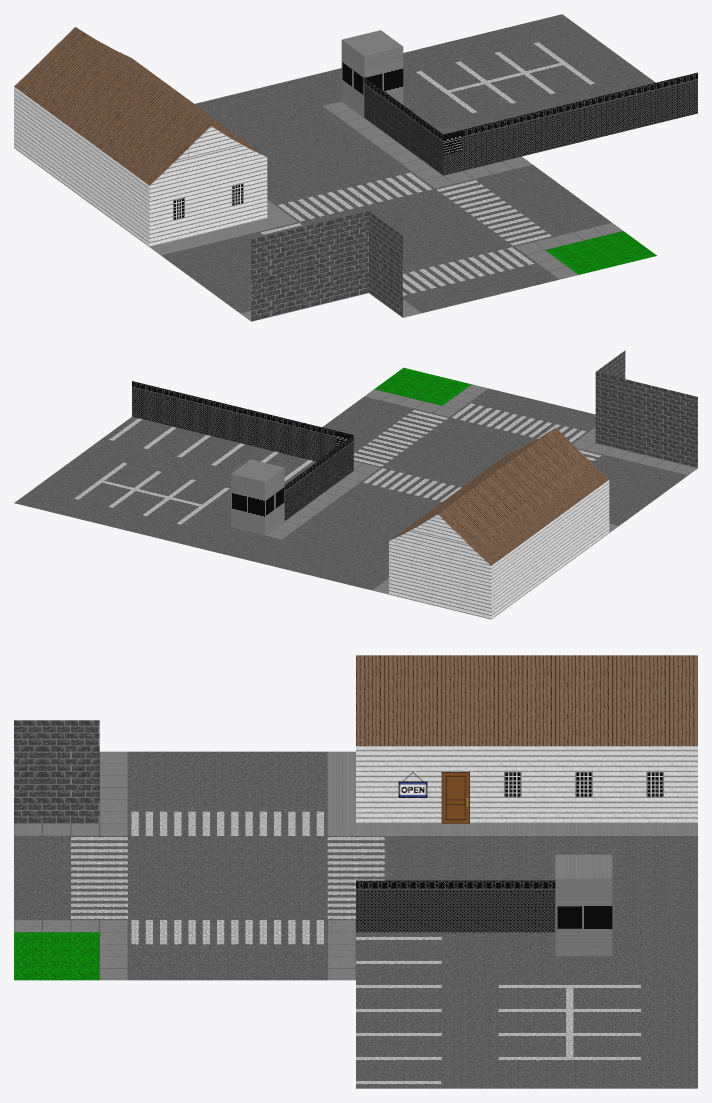
The model's file is Liquor Outlet.glb.
3 views of the same model, one above another, from view 1: azimuth 30°, elevation 25°; view 2: azimuth 150°, elevation 25°; view 3: azimuth 270°, elevation 25° (orthographic). The views are drawn at different scales.
Parts seen in each view (by area): view 1: Cube; view 2: Cube; view 3: Cube.
Boxes of the visible parts, x1,y1,x2,y2 form: Cube: [14, 14, 697, 321]; Cube: [14, 350, 697, 619]; Cube: [14, 655, 697, 1088].
Bounding box in the file's own units: 56 × 10.36 × 48.
2 materials, 2 textured.
